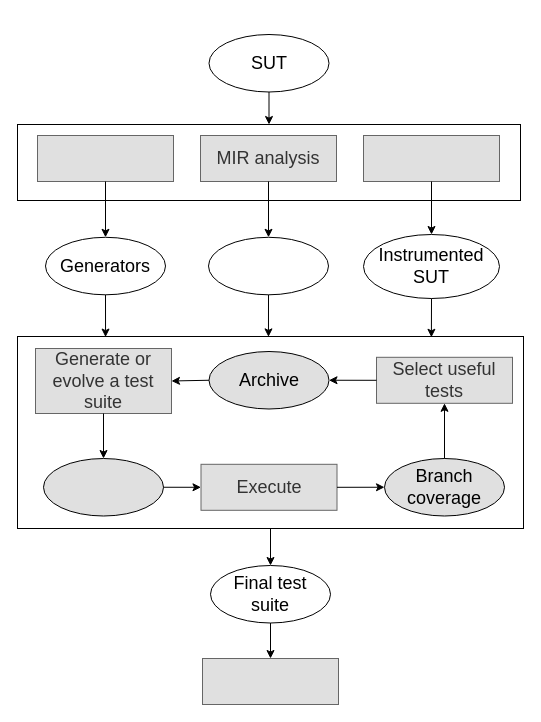
Some shapes in this 541 by 722 pixel diagram are drawn without their labels. Each missing label, with the centre of its shape:
"CDG" belongs at (268,265).
"Code coverage" belongs at (270,681).
"HIR analysis" belongs at (105,158).
"MIR instrumentation" belongs at (431,158).
"Test suite" belongs at (103,487).
